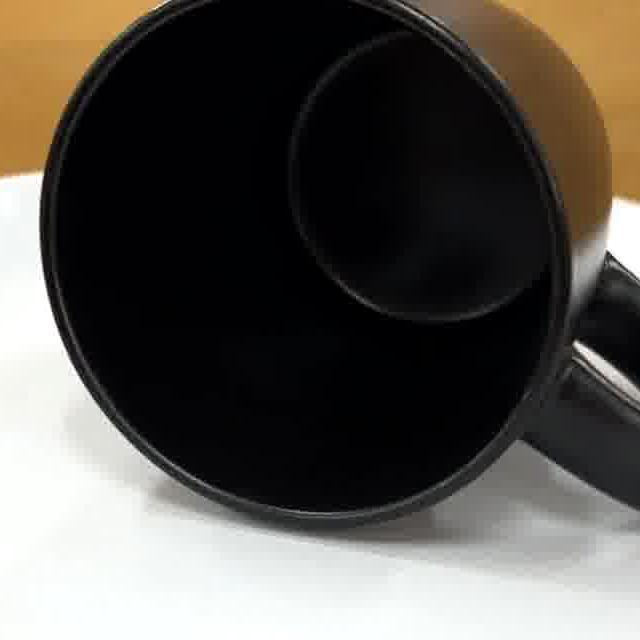cup: (41, 0, 640, 532)
